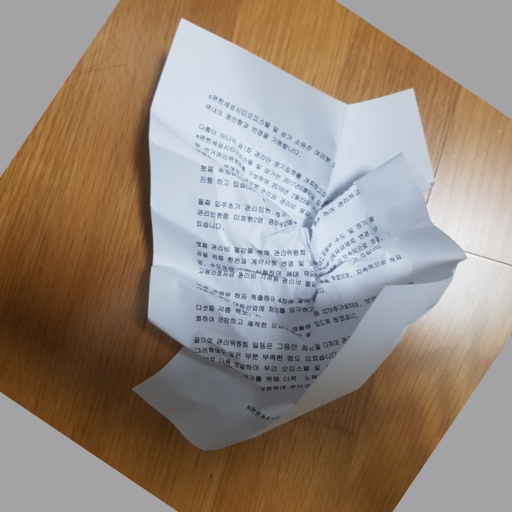Paper_3: (127, 6, 480, 468)
